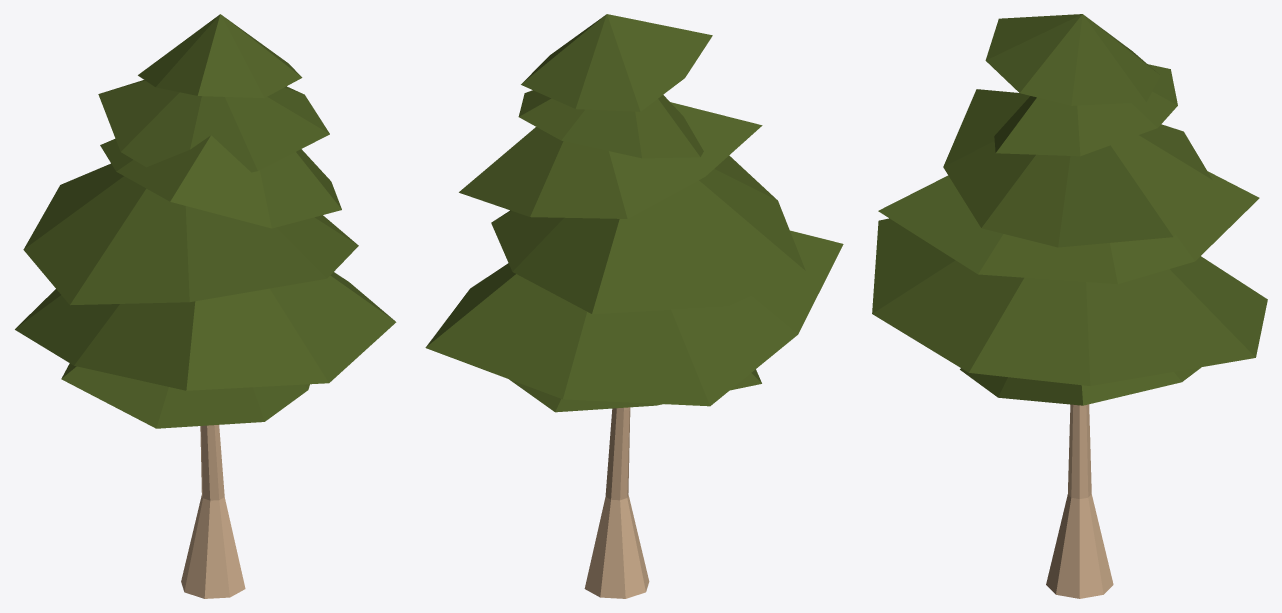
File: TreePine.fbx
The picture shows the model from 3 angles, left to right: view 1: azimuth 30°, elevation 25°; view 2: azimuth 150°, elevation 25°; view 3: azimuth 270°, elevation 25°; orthographic projection.
Parts seen in each view (by area): view 1: TreePine; view 2: TreePine; view 3: TreePine.
Part boxes in pixels (<box>): TreePine: <box>15,14,396,598</box>; TreePine: <box>425,14,843,598</box>; TreePine: <box>872,14,1267,598</box>.
Bounding box in the file's own units: 3.59 × 6.35 × 3.96.
